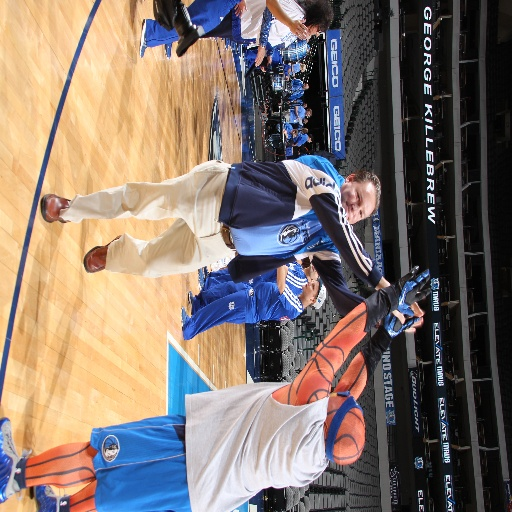hand: (386, 270, 432, 306), (383, 305, 418, 340), (390, 301, 425, 323), (402, 316, 424, 331), (289, 20, 308, 37), (232, 0, 247, 20), (254, 47, 266, 67)
